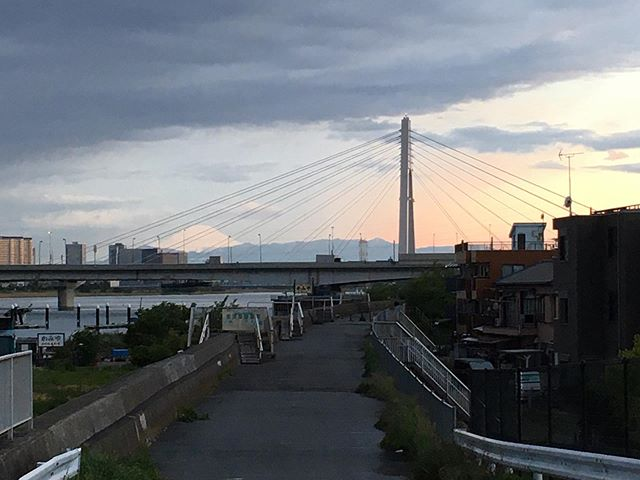bridge: (6, 251, 417, 304)
building: (552, 214, 640, 401), (451, 241, 555, 351), (498, 254, 565, 386)
sky: (1, 1, 628, 225)
